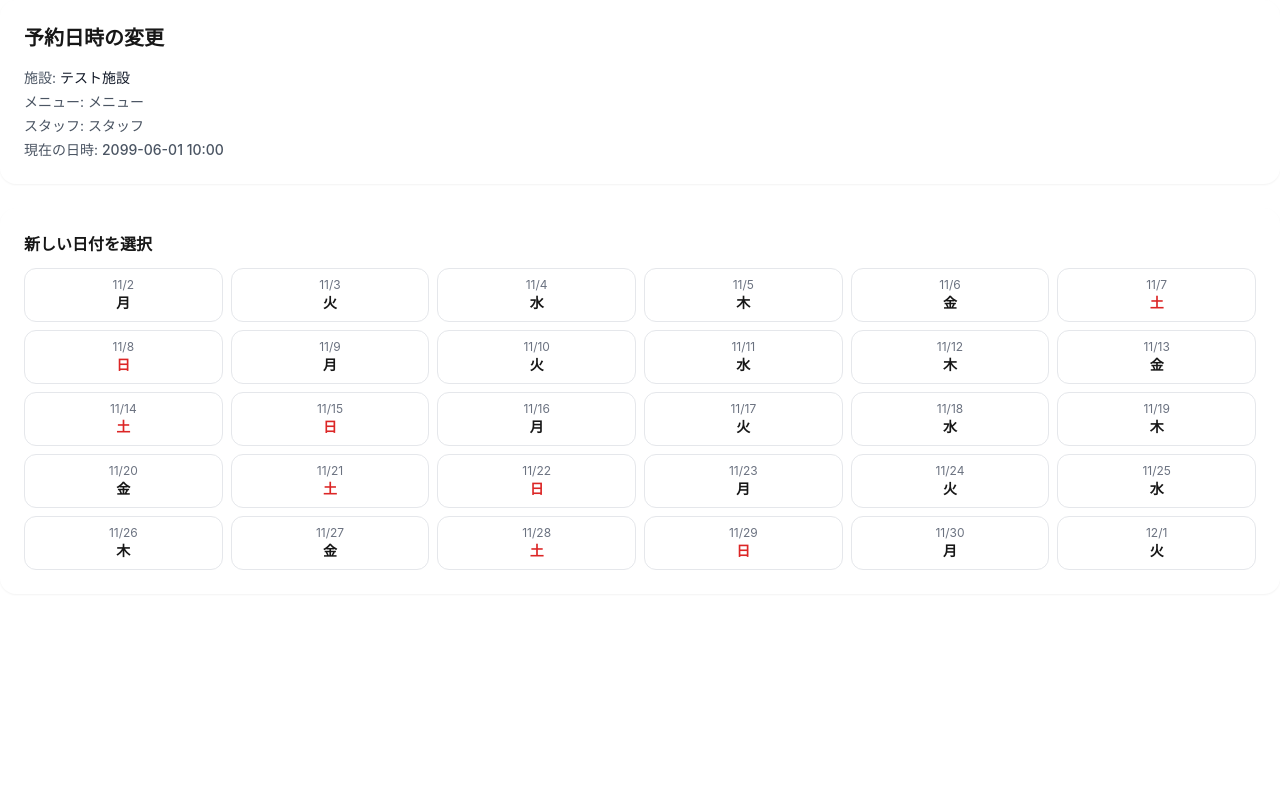
it: 指名予約 › 取得失敗(500) → 「空きなし」でなく失敗を表示し、再試行で取り直せる（回帰防止）
The width and height of the screenshot is (1280, 800).
Expected: the heading "新しい日付を選択" is shown, [24,234,152,254]
Click the button "11/3 火".
click(330, 295)  # box [231,268,429,322]
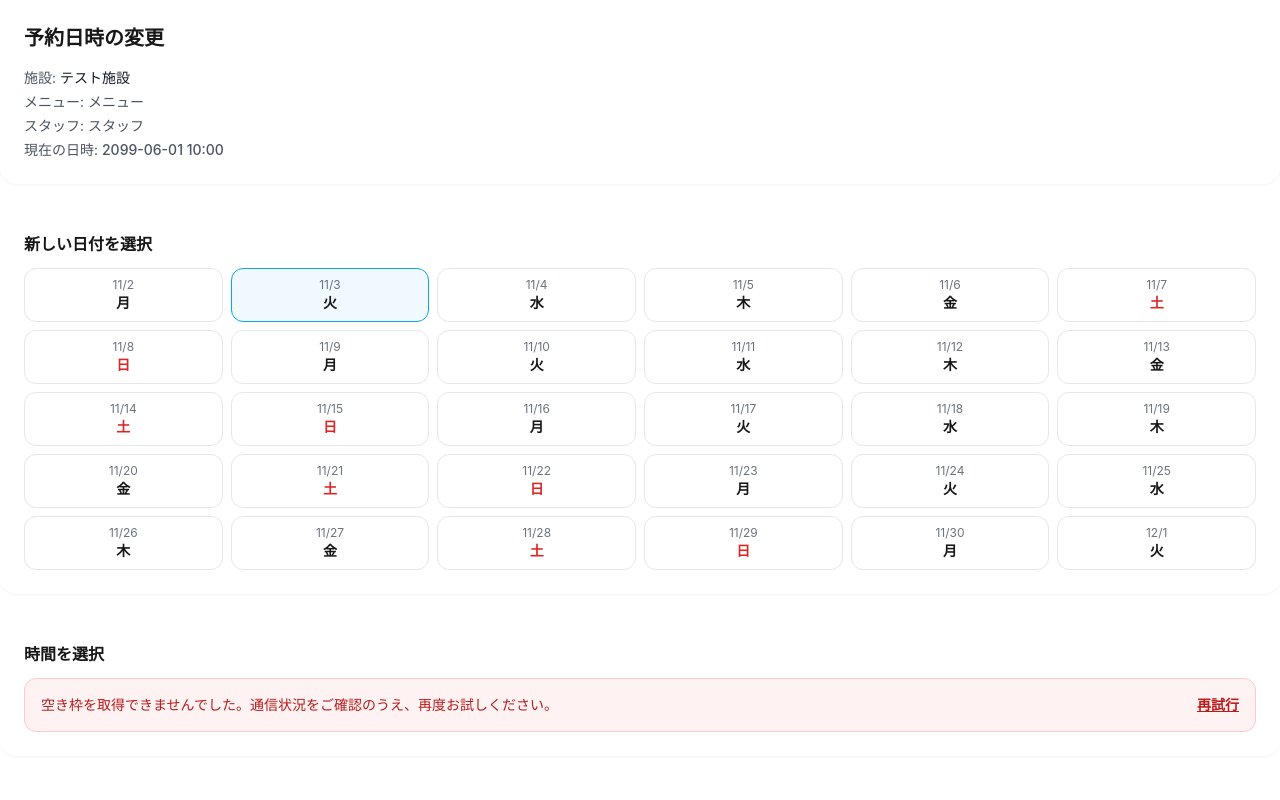
Expected: the message shows "空き枠を取得できませんでした", [41,696,558,713]
Click the button "再試行".
click(1218, 705)  # box [1197,695,1239,715]
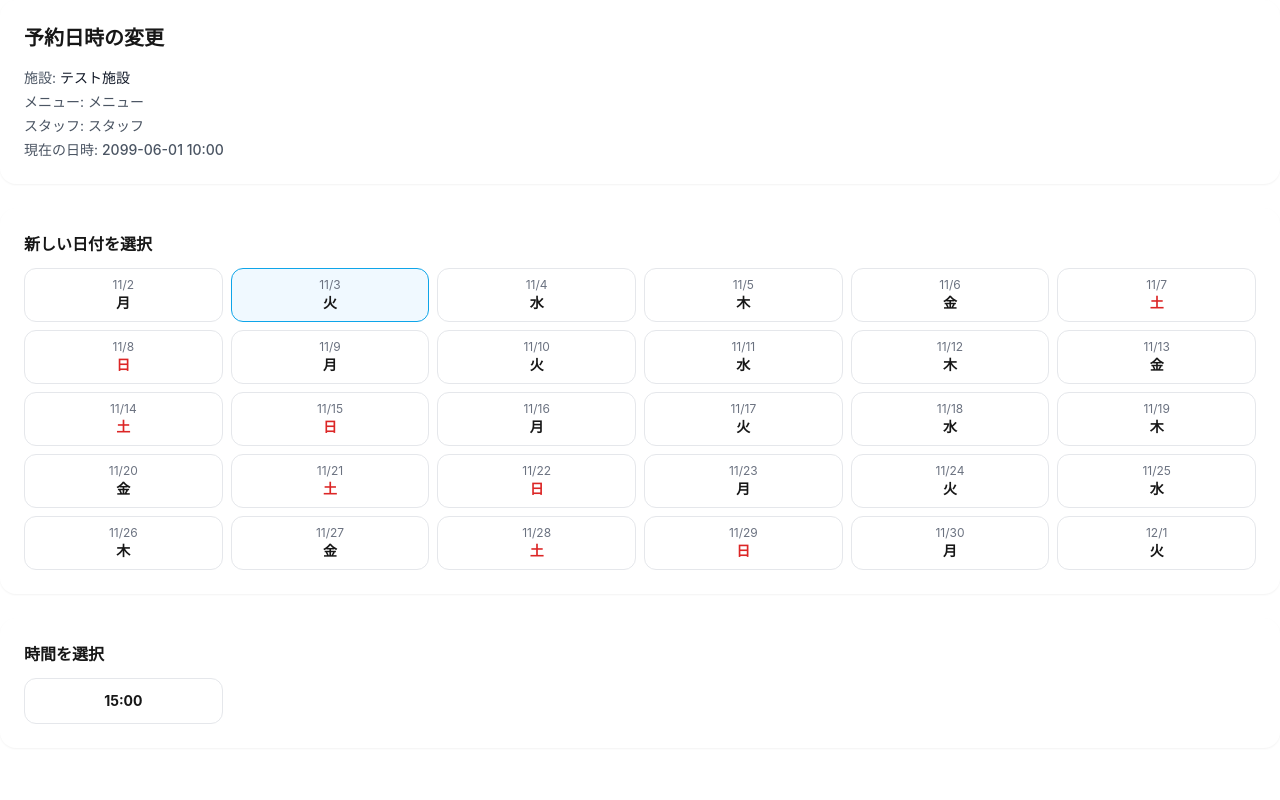
Expected: the text "15:00" is shown, [104,692,142,709]
